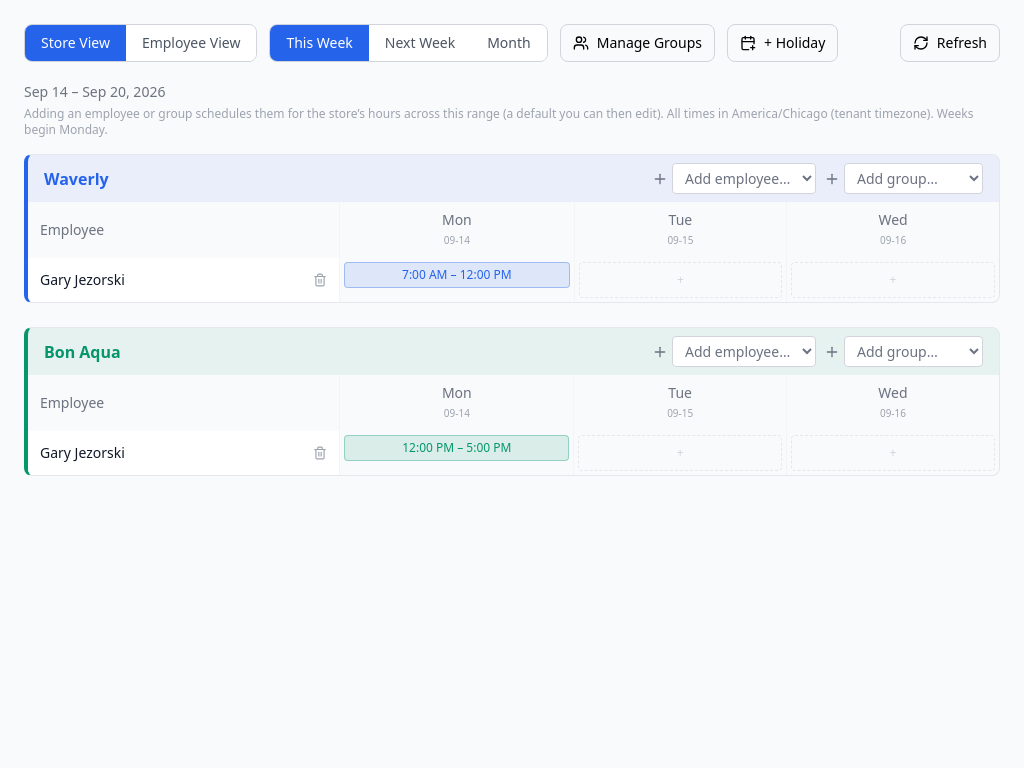
Test: Store View › an overlapping save surfaces the backend validation message
Click the button named "Add Gary Jezorski Waverly 2026-09-15" at (680, 280), box [579,262,782,298]
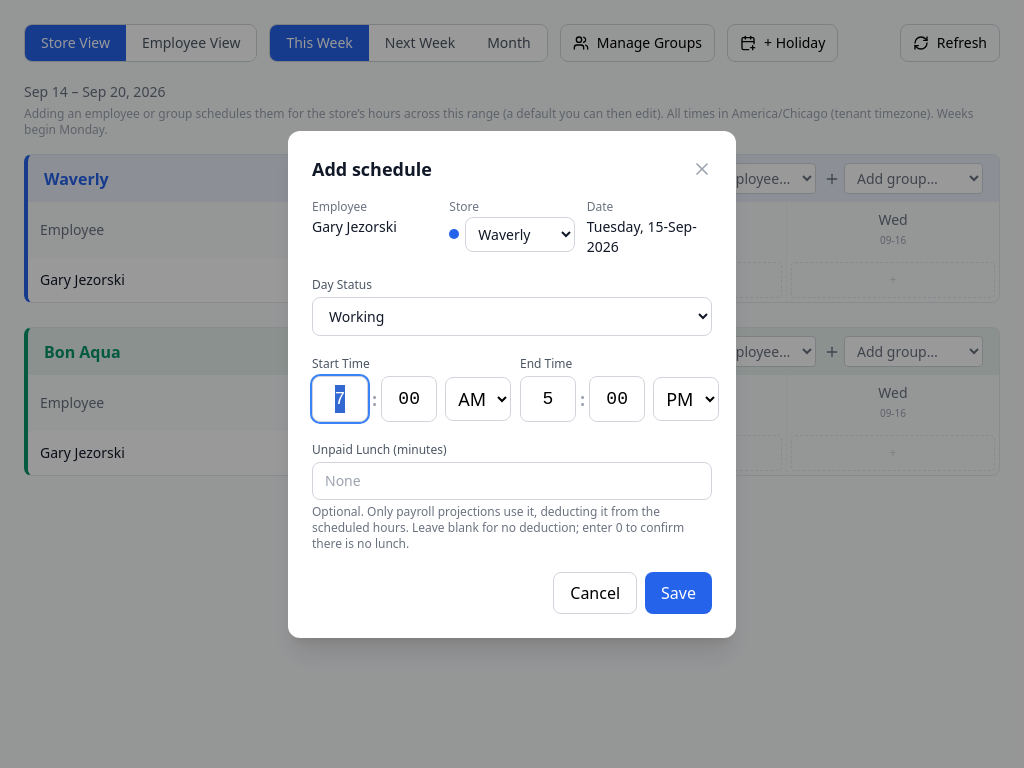
Click the button "Save" at (679, 592), box [645,572,712,614]
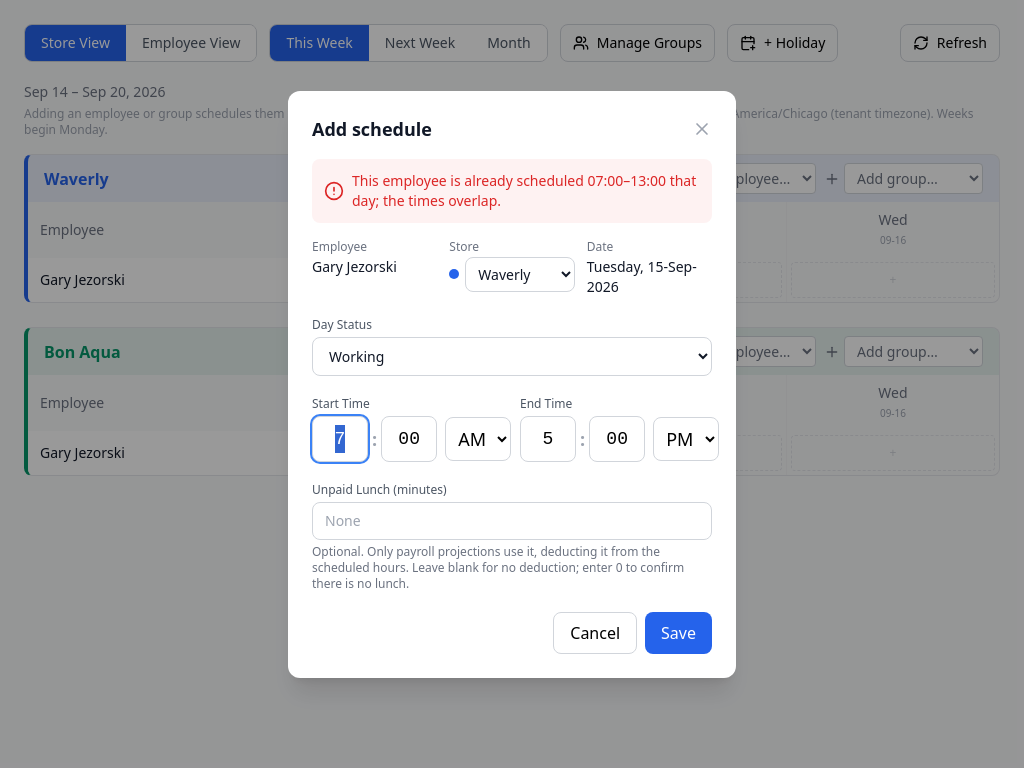
Result: the text "times overlap" is shown at [352,170,696,210]
